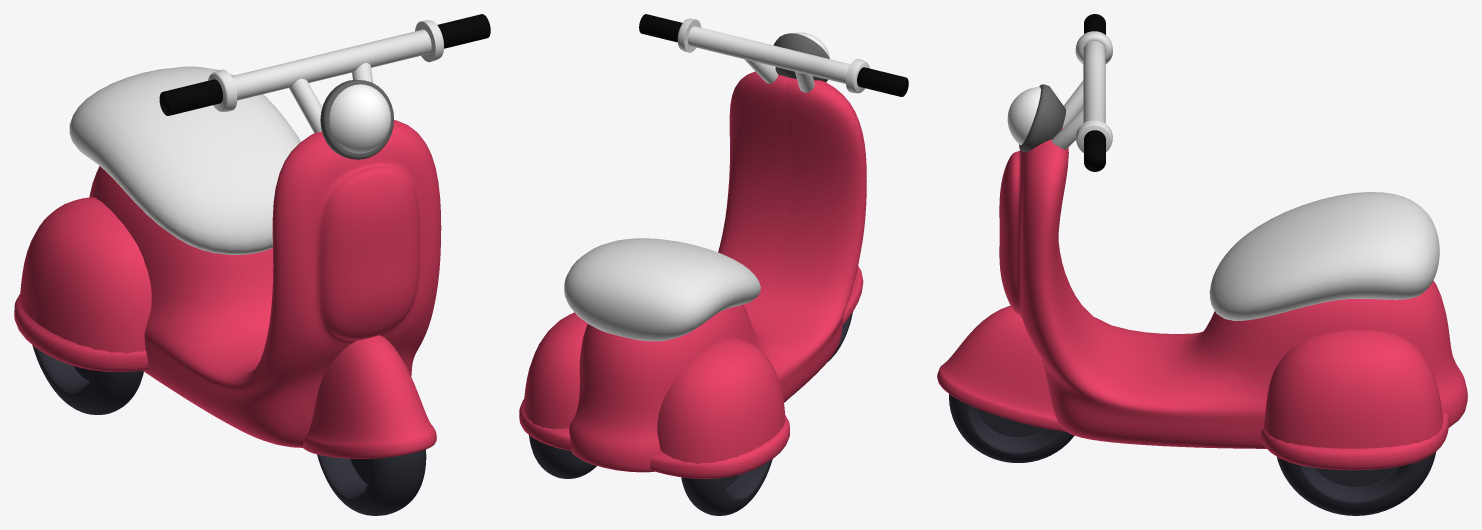
Rendered from Vespa.fbx.
3 views of the same model, side by side, from view 1: azimuth 30°, elevation 25°; view 2: azimuth 150°, elevation 25°; view 3: azimuth 270°, elevation 25° (orthographic). The views are drawn at different scales.
Parts seen in each view (by area): view 1: Cube, Cube.002, Cube.001, Cylinder.004, Cylinder.001, Cylinder.002, Sphere, Cylinder.007, Cylinder.005, Cylinder.003, Cylinder.006; view 2: Cube, Cube.002, Cylinder.004, Cylinder.002, Cylinder, Cylinder.007, Cylinder.005, Cylinder.006, Cylinder.003, Cube.001; view 3: Cube, Cube.002, Cube.001, Cylinder, Cylinder.001, Cylinder.004, Cylinder.005, Sphere, Cylinder.003, Cylinder.006.
Part boxes in pixels (left/top/right/bottom): Cube: left=14, top=120, right=441, bottom=447; Cube.002: left=69, top=66, right=300, bottom=254; Cube.001: left=303, top=335, right=436, bottom=458; Cylinder.004: left=208, top=20, right=443, bottom=111; Cylinder.001: left=317, top=449, right=426, bottom=515; Cylinder.002: left=32, top=345, right=143, bottom=414; Sphere: left=329, top=84, right=390, bottom=153; Cylinder.007: left=159, top=79, right=222, bottom=115; Cylinder.005: left=320, top=79, right=393, bottom=159; Cylinder.003: left=289, top=63, right=372, bottom=132; Cylinder.006: left=437, top=14, right=490, bottom=48; Cube: left=519, top=71, right=866, bottom=478; Cube.002: left=564, top=238, right=760, bottom=341; Cylinder.004: left=677, top=18, right=869, bottom=93; Cylinder.002: left=681, top=459, right=772, bottom=515; Cylinder: left=529, top=435, right=596, bottom=478; Cylinder.007: left=857, top=67, right=908, bottom=96; Cylinder.005: left=774, top=33, right=829, bottom=81; Cylinder.006: left=639, top=14, right=682, bottom=42; Cylinder.003: left=744, top=59, right=814, bottom=92; Cube.001: left=842, top=266, right=863, bottom=325; Cube: left=999, top=127, right=1467, bottom=470; Cube.002: left=1209, top=192, right=1439, bottom=320; Cube.001: left=937, top=305, right=1065, bottom=431; Cylinder: left=1277, top=452, right=1435, bottom=515; Cylinder.001: left=949, top=394, right=1074, bottom=462; Cylinder.004: left=1075, top=31, right=1112, bottom=152; Cylinder.005: left=1019, top=84, right=1066, bottom=152; Sphere: left=1007, top=87, right=1040, bottom=145; Cylinder.003: left=1052, top=80, right=1083, bottom=149; Cylinder.006: left=1084, top=130, right=1105, bottom=171.
Bounding box in the file's own units: 319 × 427 × 519.
